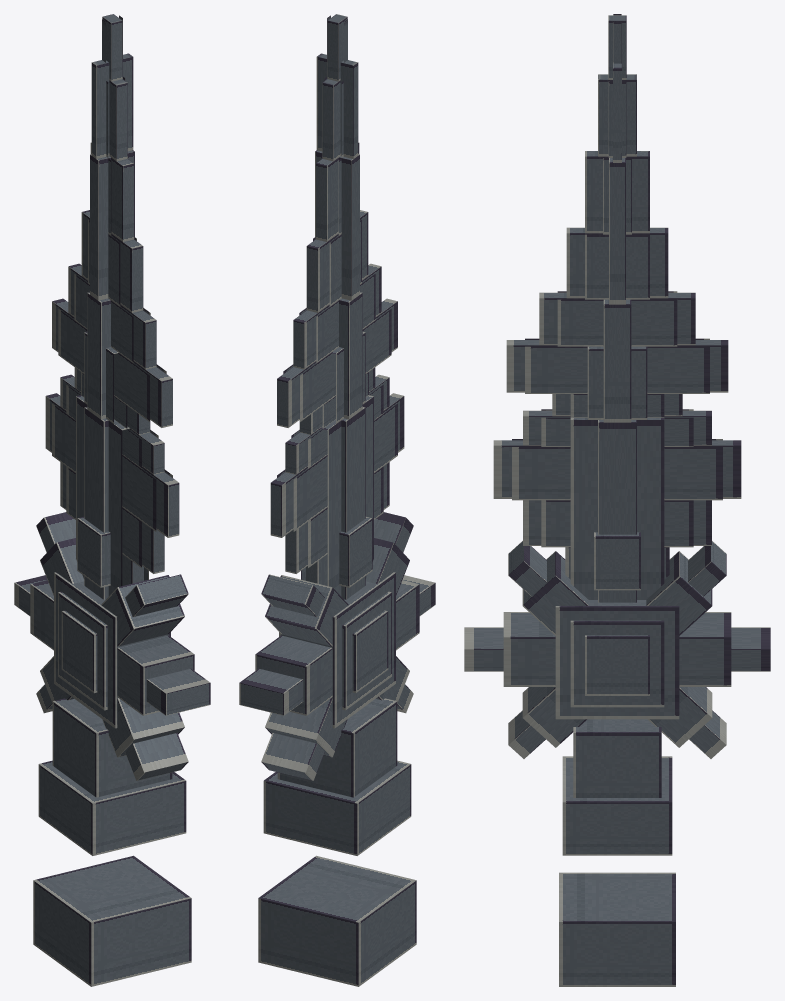
File: workpiece_lingxiao_spear_tempered.obj
3 renders of one model, left to right at view 1: azimuth 30°, elevation 25°; view 2: azimuth 150°, elevation 25°; view 3: azimuth 270°, elevation 25°, orthographic.
Visible parts, largest first — view 1: geometry; view 2: geometry; view 3: geometry.
Part boxes in pixels (x1=…): geometry: x1=14, y1=14, x2=210, y2=986; geometry: x1=239, y1=14, x2=435, y2=986; geometry: x1=464, y1=14, x2=770, y2=986.
Bounding box in the file's own units: 0.1125 × 1 × 0.2938.
